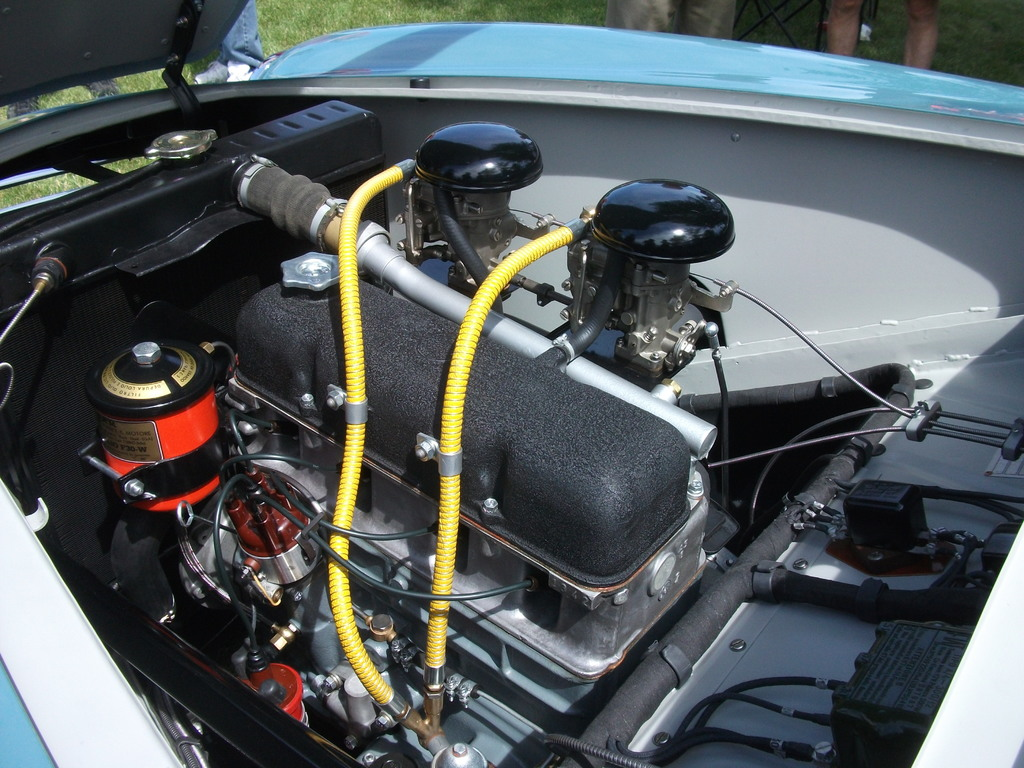Car: (24, 0, 967, 768)
